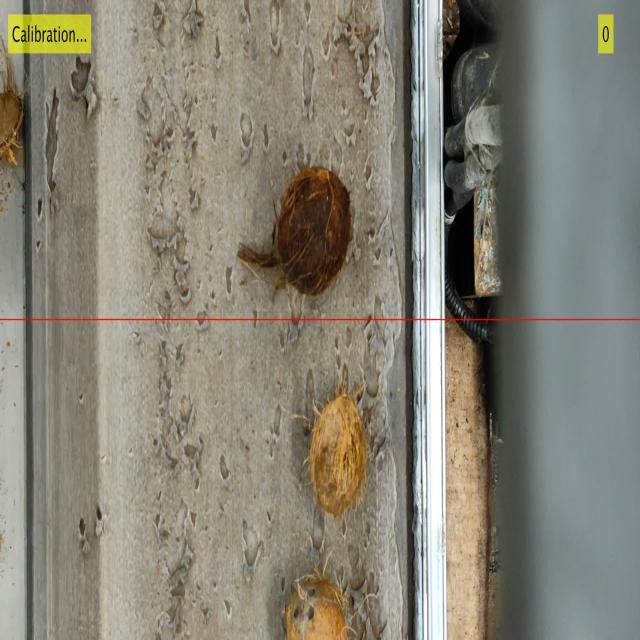Coconut-Conveyor-Belt: (238, 166, 352, 299), (308, 377, 370, 519), (285, 572, 348, 637)
